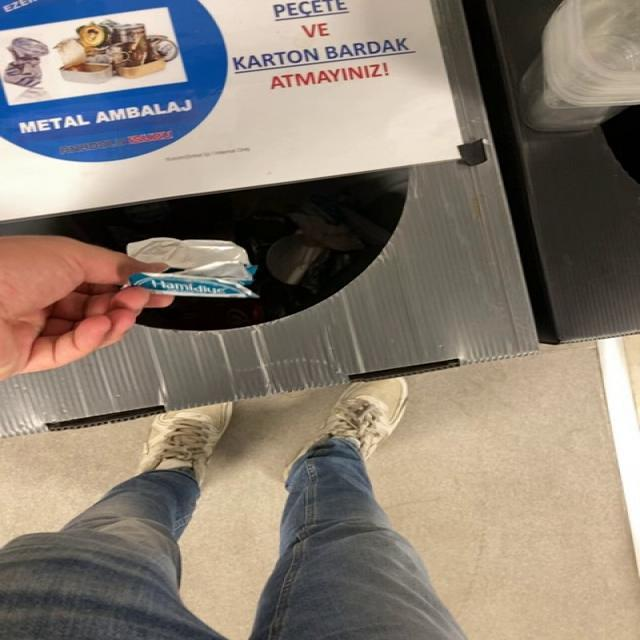Bin: (0, 0, 537, 436)
Metal: (127, 237, 259, 298)
